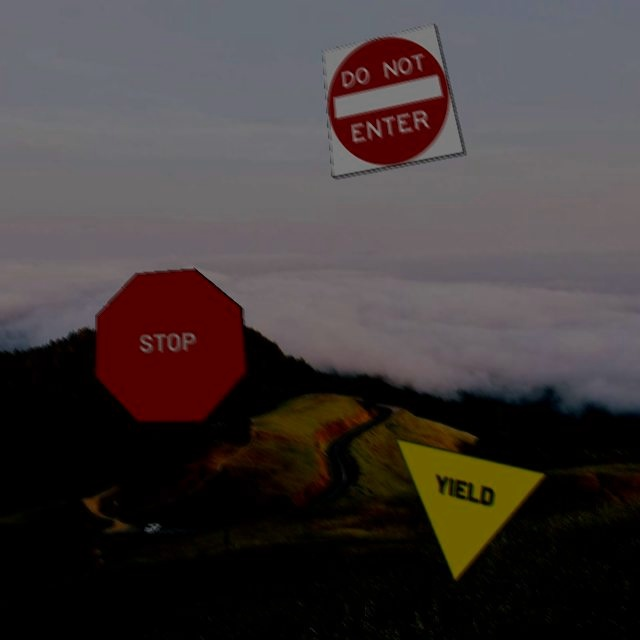DO_NOT_ENTER: (320, 22, 463, 177)
STOP: (92, 267, 246, 422)
YIELD: (392, 436, 547, 582)
